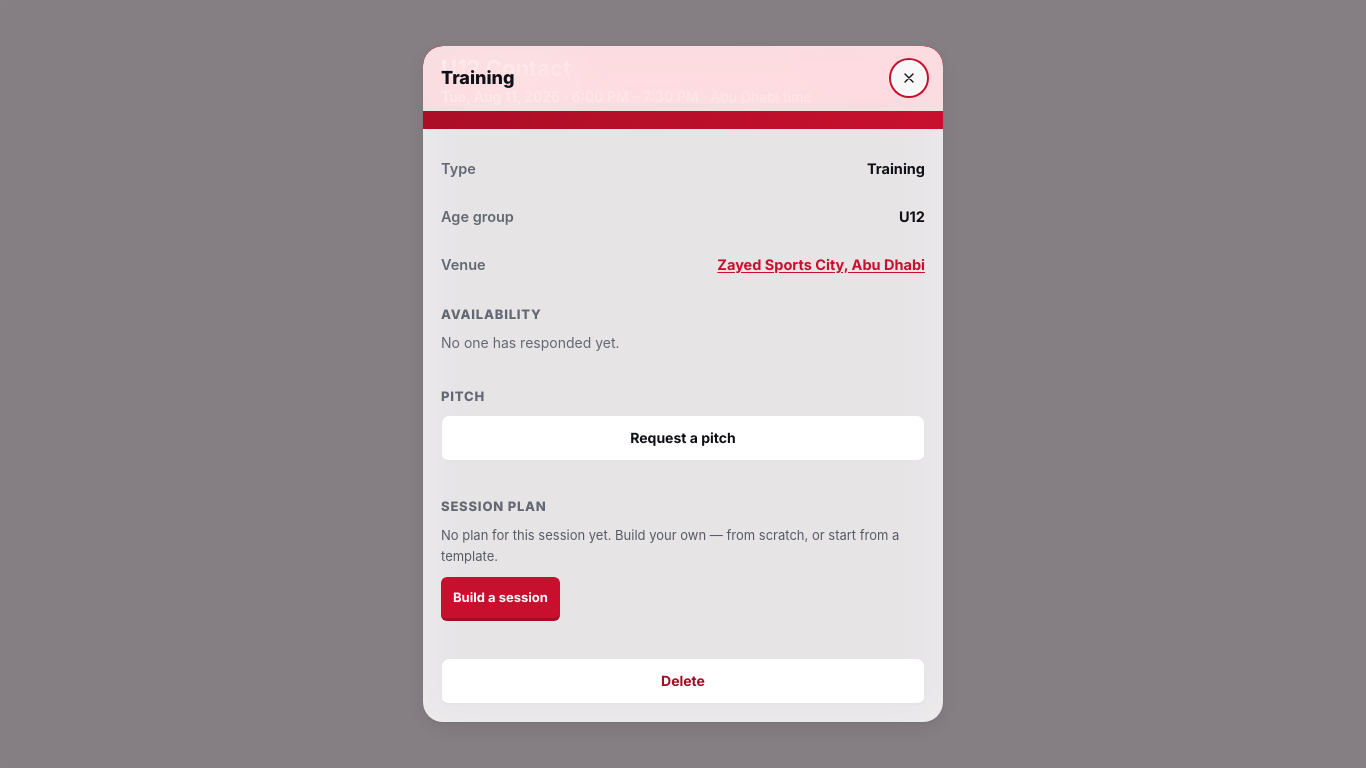
Scenario: deleting an occurrence of a series › uses the singular when exactly one later session is going
The width and height of the screenshot is (1366, 768).
(page scrolled)
Click the button "Delete" at (683, 682), box [441,658,925,706]
(page scrolled)
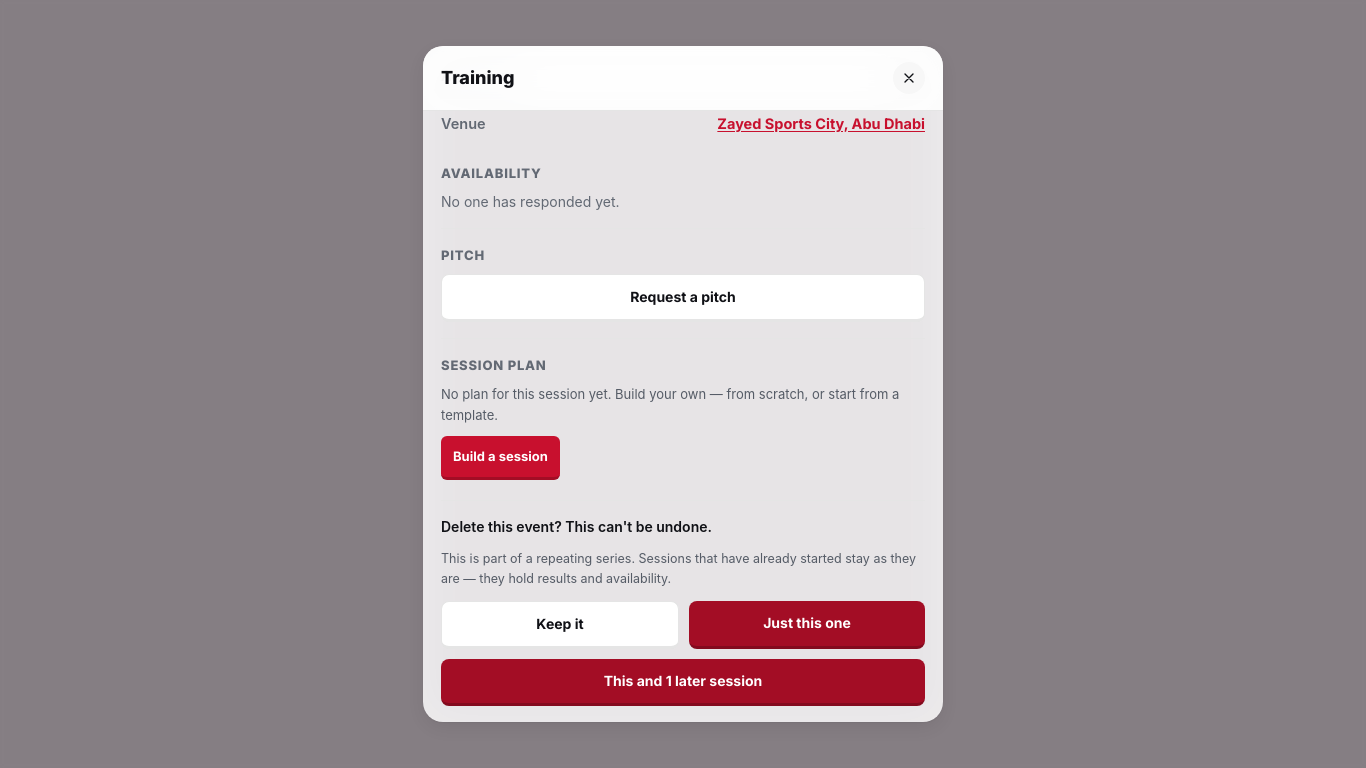
Check: the button "This and 1 later session" is shown, box [441,659,925,706]
